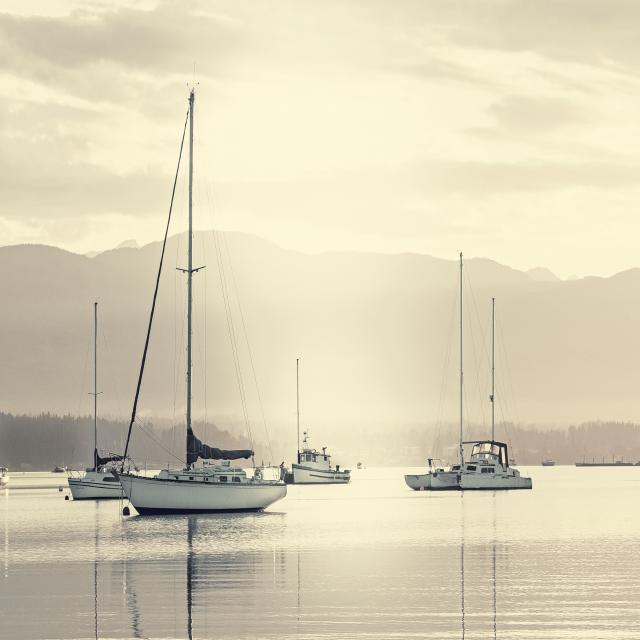ship: (116, 98, 284, 518), (461, 296, 535, 492), (72, 297, 140, 503), (287, 354, 352, 488)
